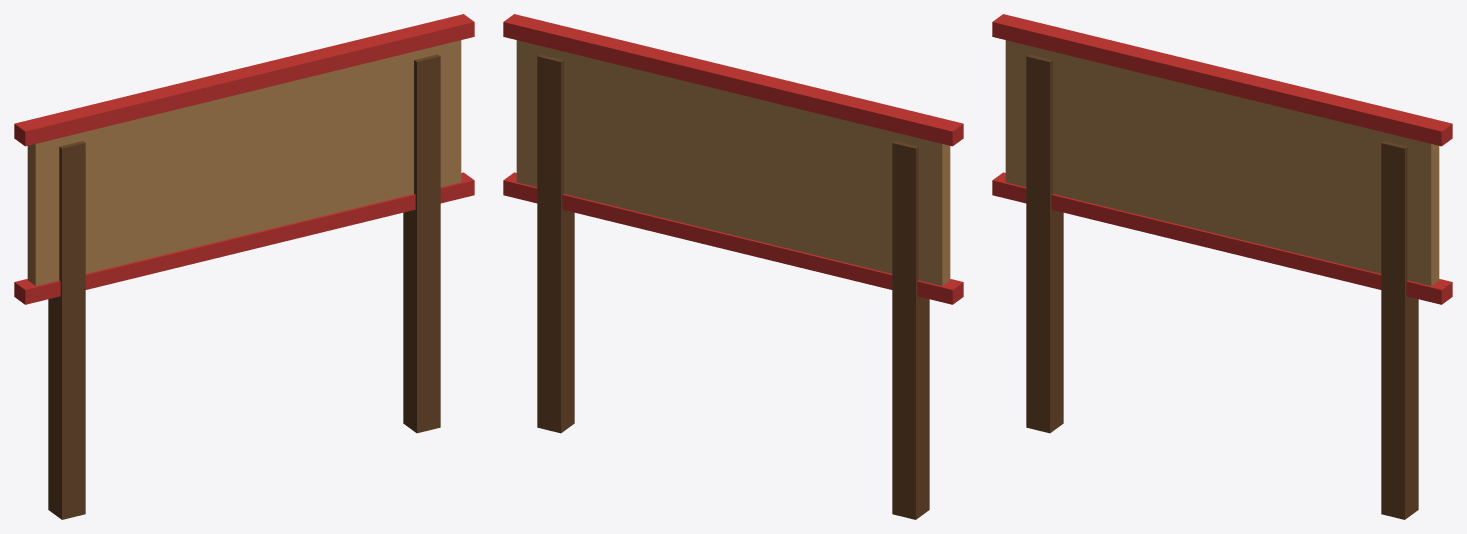
Rendered from GameSign.obj.
The picture shows the model from 3 angles, left to right: view 1: azimuth 30°, elevation 25°; view 2: azimuth 150°, elevation 25°; view 3: azimuth 330°, elevation 25°; orthographic projection.
Parts seen in each view (by area): view 1: GameSign; view 2: GameSign; view 3: GameSign.
Part boxes in pixels (x1,y1,x2,y2): GameSign: (14, 14, 474, 519); GameSign: (503, 14, 963, 519); GameSign: (992, 14, 1452, 519).
Size of the model in its own units: 1.9 by 1.6 by 0.1.
